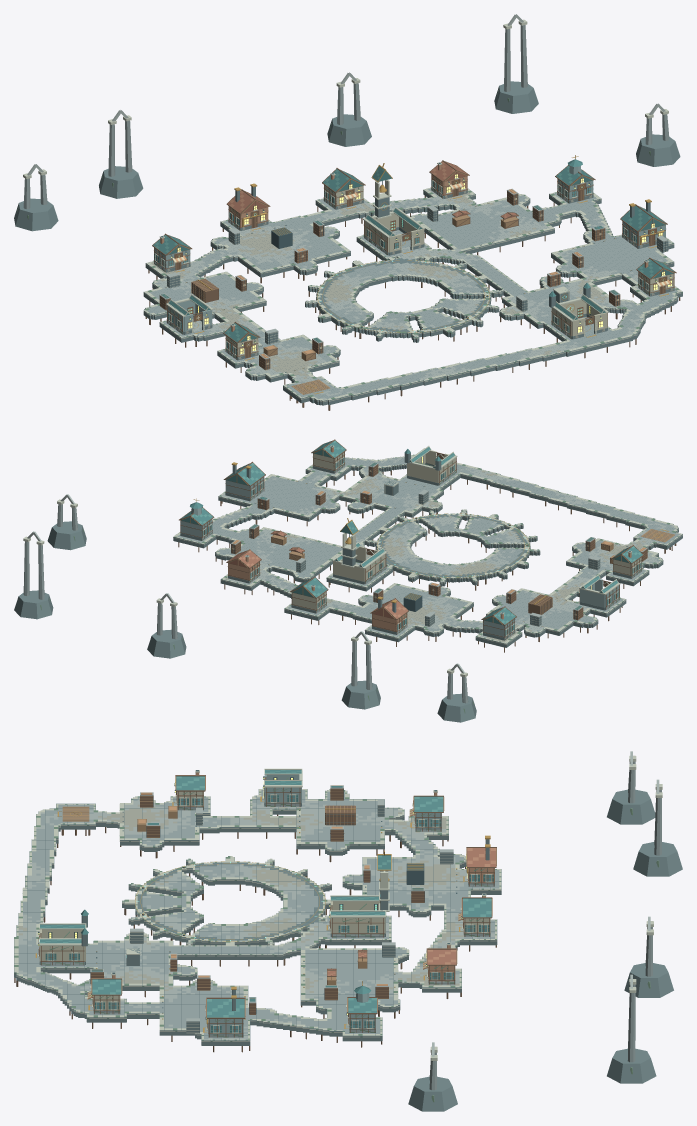
The model's file is DrownedBellTown.fbx.
3 renders of one model, top to bottom at view 1: azimuth 30°, elevation 25°; view 2: azimuth 150°, elevation 25°; view 3: azimuth 270°, elevation 25°, orthographic. The views are drawn at different scales.
Visible parts, largest first — view 1: Town_Streets, Town_QuaysAndPiles, Town_DistantRuins, Roof_12_Chapel, Building_12_Chapel, Building_11_Archive, Town_InlaidRoutesAndRitual, Details_05_Workshop, Details_09_Engine, Details_12_Chapel, Details_11_Archive, Building_03_Clinic (+4 smaller); view 2: Town_Streets, Town_QuaysAndPiles, Town_DistantRuins, Roof_12_Chapel, Building_12_Chapel, Building_11_Archive, Building_03_Clinic, Roof_09_Engine, Roof_11_Archive, Building_09_Engine, Roof_08_Cartography, Roof_06_Commission (+4 smaller); view 3: Town_Streets, Town_QuaysAndPiles, Town_DistantRuins, Roof_12_Chapel, Building_12_Chapel, Building_11_Archive, Town_InlaidRoutesAndRitual, Roof_11_Archive, Roof_09_Engine, Details_12_Chapel, Details_11_Archive, Building_03_Clinic (+13 smaller).
Boxes of the visible parts, x1,y1,x2,y2 form: Town_Streets: (144, 187, 682, 400); Town_QuaysAndPiles: (143, 188, 682, 410); Town_DistantRuins: (14, 14, 680, 231); Roof_12_Chapel: (363, 163, 425, 237); Building_12_Chapel: (364, 213, 424, 255); Building_11_Archive: (552, 300, 607, 339); Town_InlaidRoutesAndRitual: (165, 195, 668, 394); Details_05_Workshop: (228, 183, 268, 230); Details_09_Engine: (622, 199, 665, 248); Details_12_Chapel: (363, 202, 424, 255); Details_11_Archive: (551, 304, 607, 338); Building_03_Clinic: (167, 300, 212, 334); Town_Streets: (173, 454, 682, 643); Town_QuaysAndPiles: (173, 458, 682, 652); Town_DistantRuins: (14, 494, 476, 722); Roof_12_Chapel: (332, 518, 386, 568); Building_12_Chapel: (333, 546, 385, 584); Building_11_Archive: (407, 450, 455, 485); Building_03_Clinic: (579, 579, 619, 610); Roof_09_Engine: (223, 461, 265, 486); Roof_11_Archive: (404, 446, 457, 470); Building_09_Engine: (225, 477, 263, 501); Roof_08_Cartography: (179, 498, 214, 525); Roof_06_Commission: (290, 576, 328, 598); Town_Streets: (14, 789, 501, 1040); Town_QuaysAndPiles: (14, 789, 501, 1052); Town_DistantRuins: (408, 751, 682, 1111); Roof_12_Chapel: (330, 851, 391, 917); Building_12_Chapel: (330, 901, 385, 937); Building_11_Archive: (39, 929, 85, 965); Town_InlaidRoutesAndRitual: (35, 796, 467, 1032); Roof_11_Archive: (39, 909, 88, 946); Roof_09_Engine: (206, 997, 245, 1018); Details_12_Chapel: (329, 894, 384, 937); Details_11_Archive: (38, 931, 84, 965); Building_03_Clinic: (264, 774, 301, 806).
Size of the model in its own units: 166 by 24.8 by 152.
